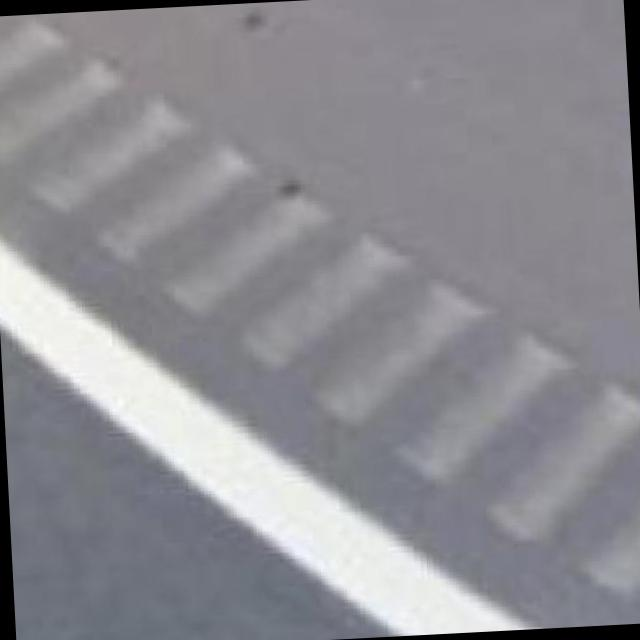zebra: (0, 15, 640, 639)
